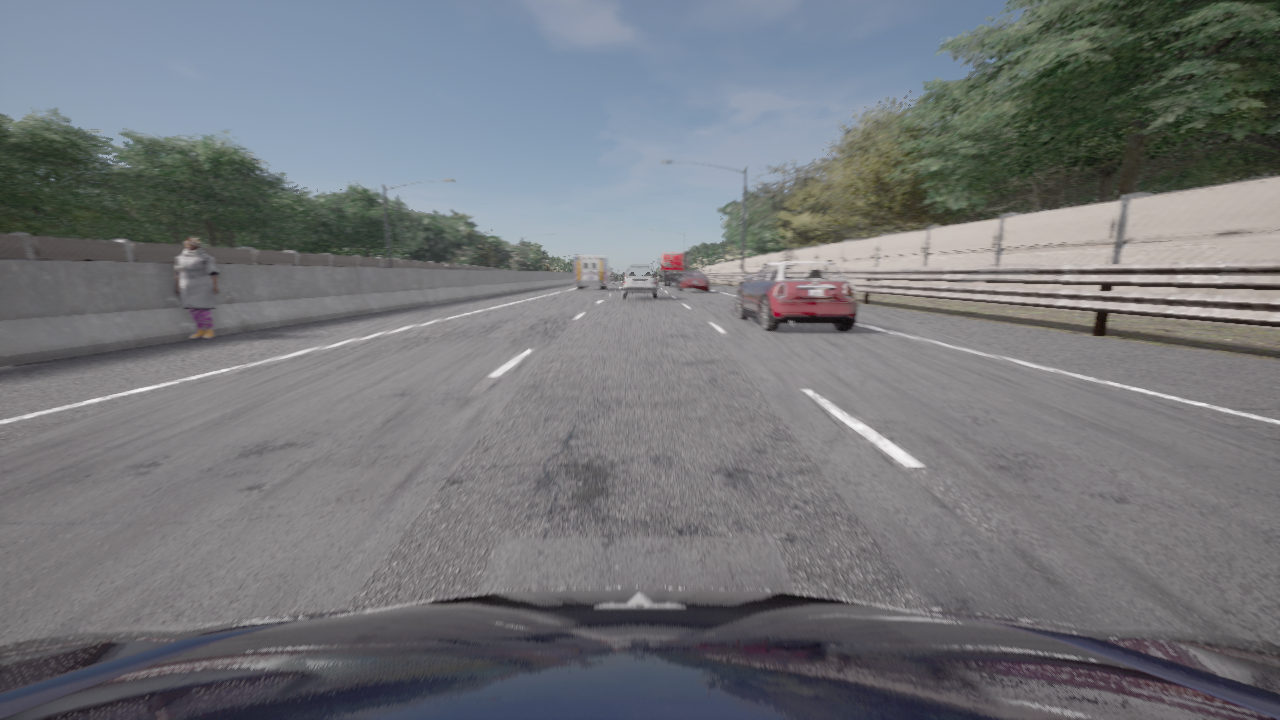cyclist: (0, 588, 1279, 719), (736, 261, 857, 331), (574, 256, 611, 289), (622, 265, 657, 299), (657, 251, 689, 286), (675, 271, 709, 292), (609, 272, 615, 284)
pedestrian: (174, 237, 219, 339)
